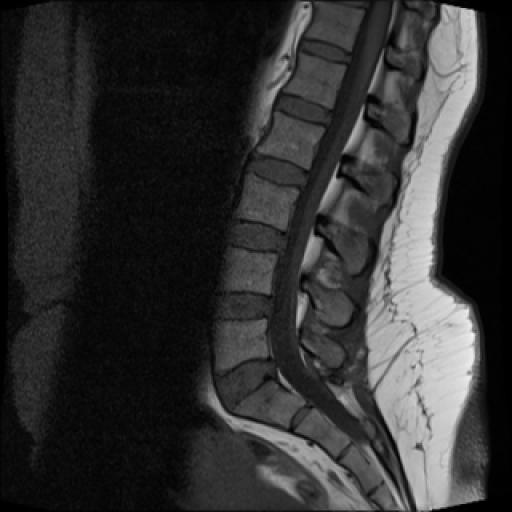L1: (284, 51, 345, 108)
L2: (258, 112, 325, 168)
L3: (235, 173, 298, 230)
L4: (219, 247, 278, 294)
L5: (214, 318, 269, 372)
S1: (229, 379, 308, 430)
